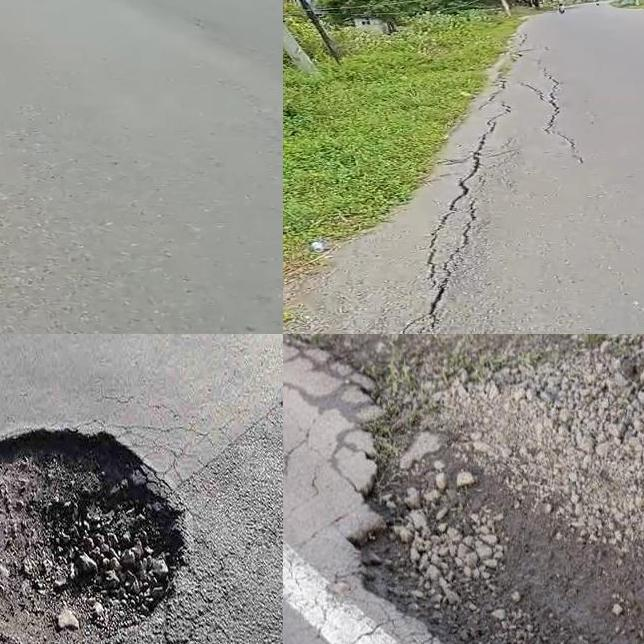Lubang: (0, 427, 180, 639)
Pinggir: (335, 366, 644, 644), (283, 65, 555, 334)
